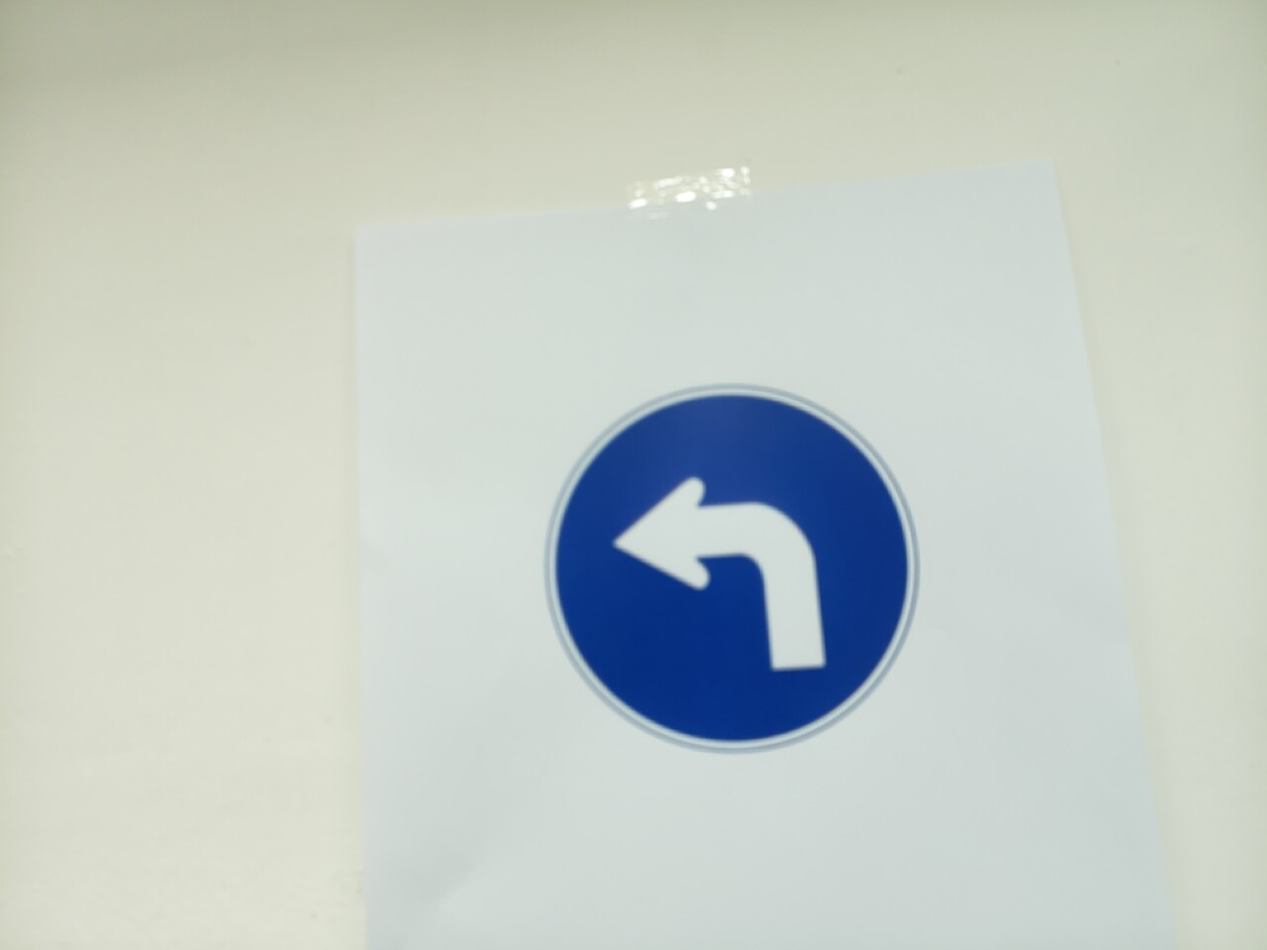left_turn: (544, 384, 919, 753)
